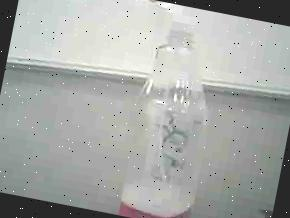hazard: (100, 0, 235, 218)
